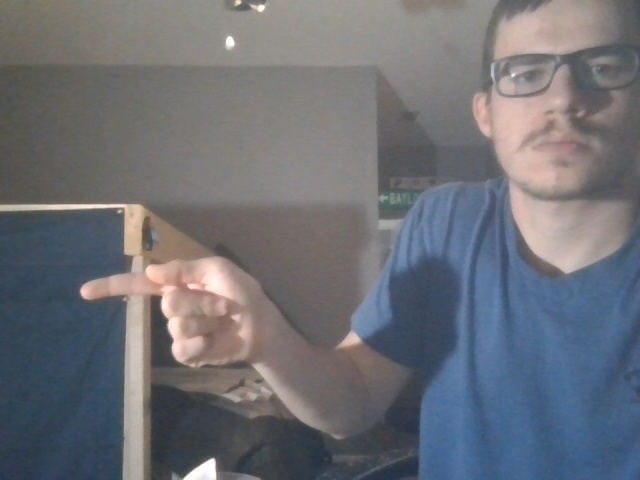G: (74, 254, 275, 374)
